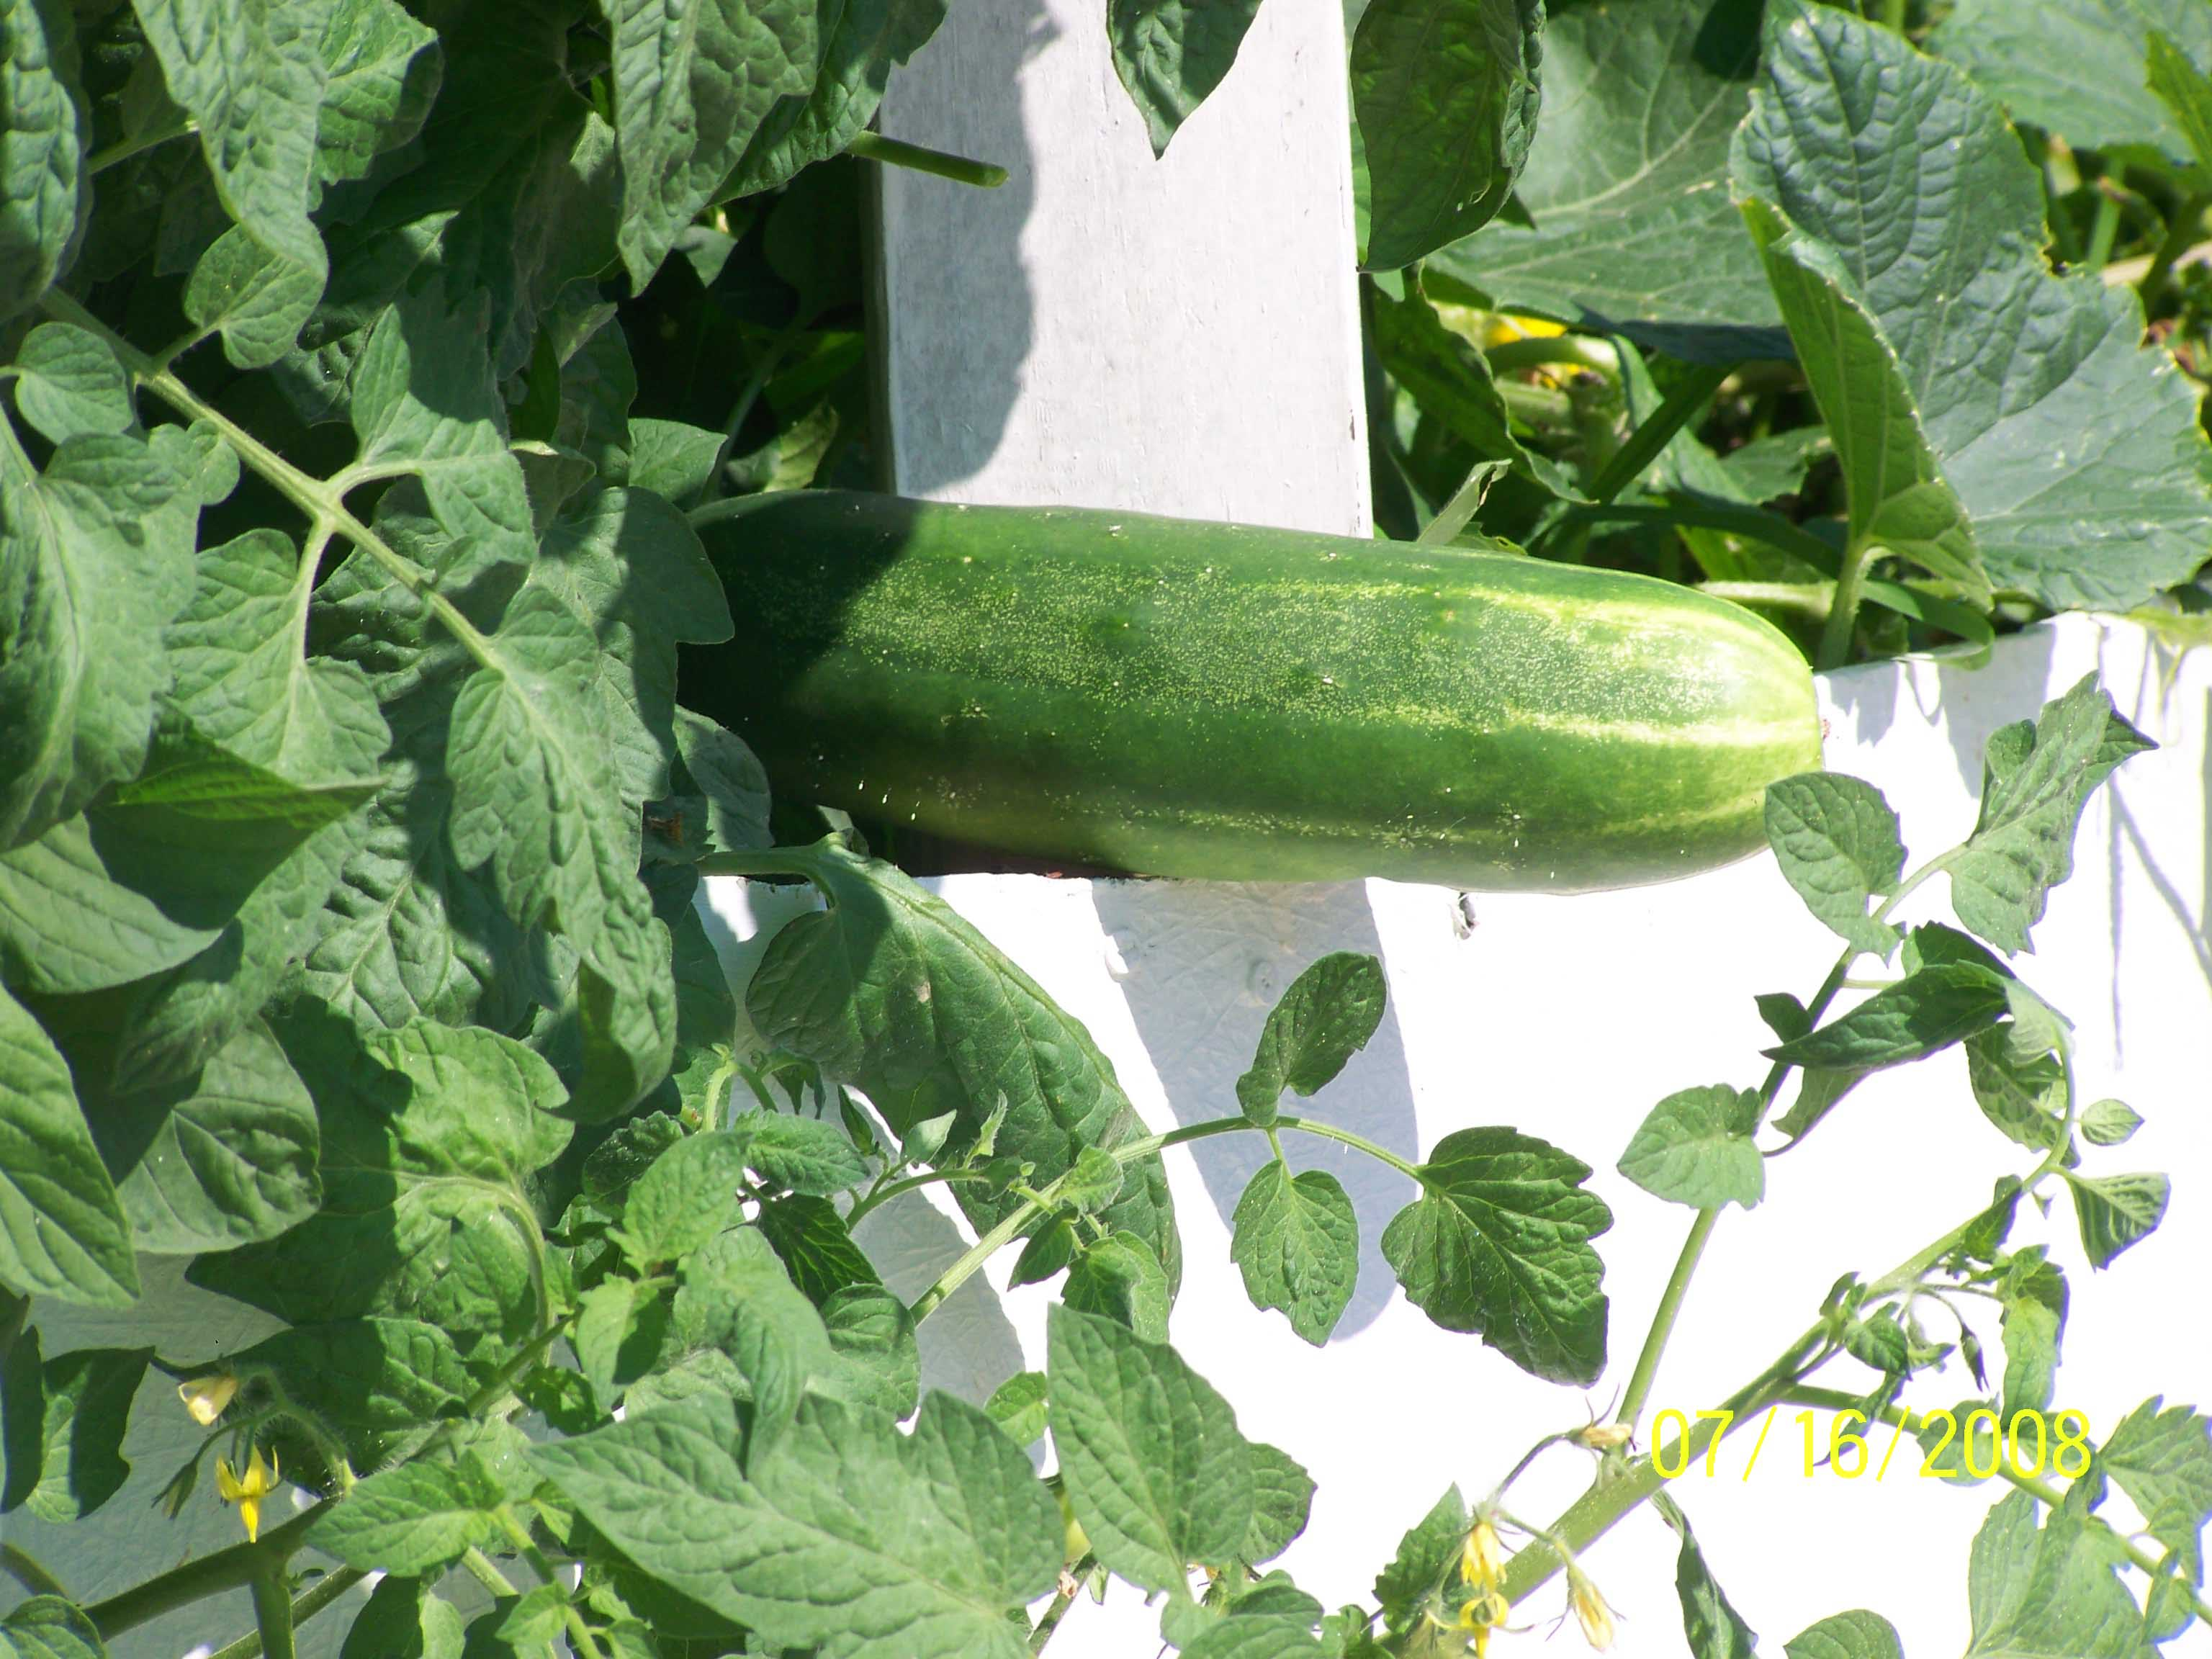cucumber: (672, 484, 1834, 892)
